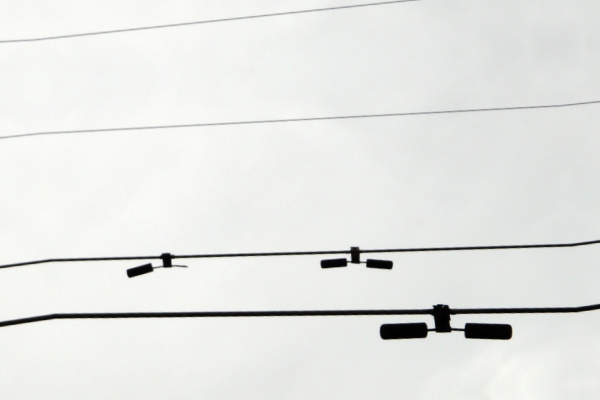damper: (378, 302, 515, 343), (316, 245, 394, 272)
damper_defect: (124, 249, 190, 280)
